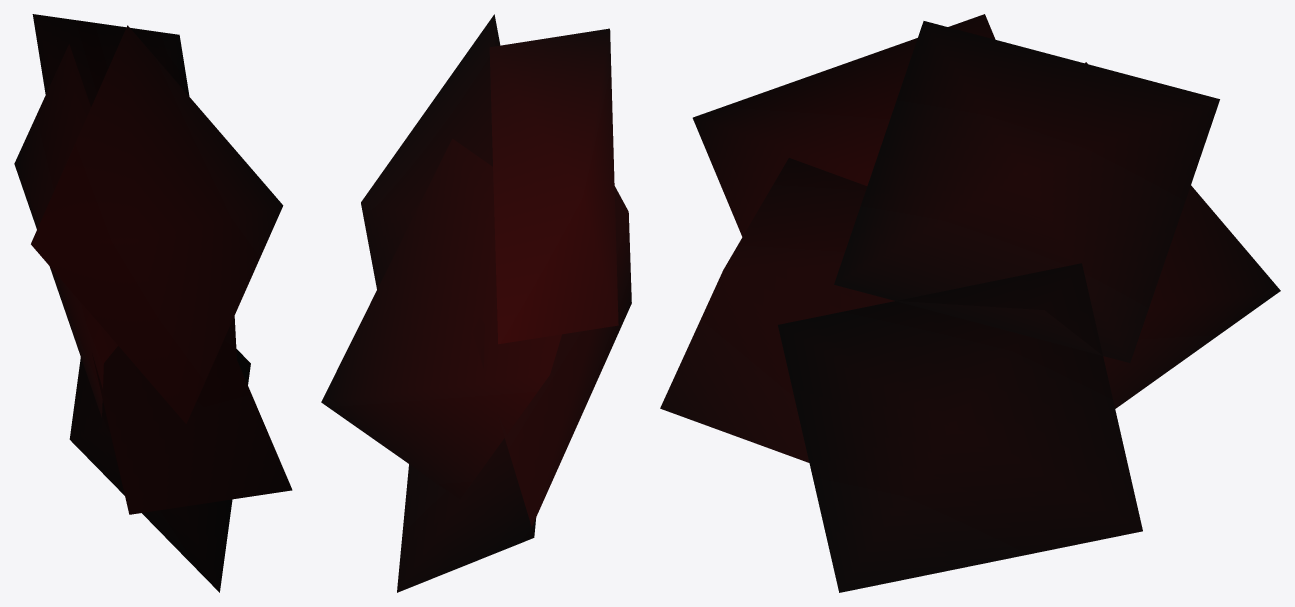
Rendered from TGV_Ivy_03A.fbx.
3 views of the same model, side by side, from view 1: azimuth 30°, elevation 25°; view 2: azimuth 150°, elevation 25°; view 3: azimuth 270°, elevation 25° (orthographic). The views are drawn at different scales.
Visible parts, largest first — view 1: TGV_Ivy__03A_LOD1; view 2: TGV_Ivy__03A_LOD1; view 3: TGV_Ivy__03A_LOD1.
Part boxes in pixels (x1,y1,x2,y2): TGV_Ivy__03A_LOD1: (14,14,292,592); TGV_Ivy__03A_LOD1: (321,14,631,592); TGV_Ivy__03A_LOD1: (660,14,1280,592).
Size of the model in its own units: 20.15 by 128 by 126.
